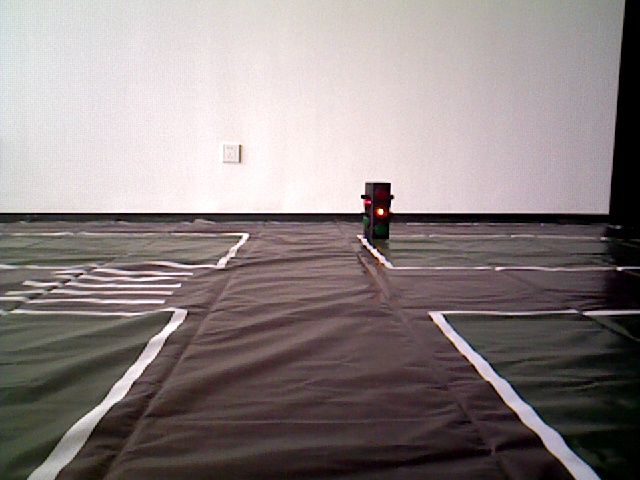yellow: (364, 182, 391, 241)
